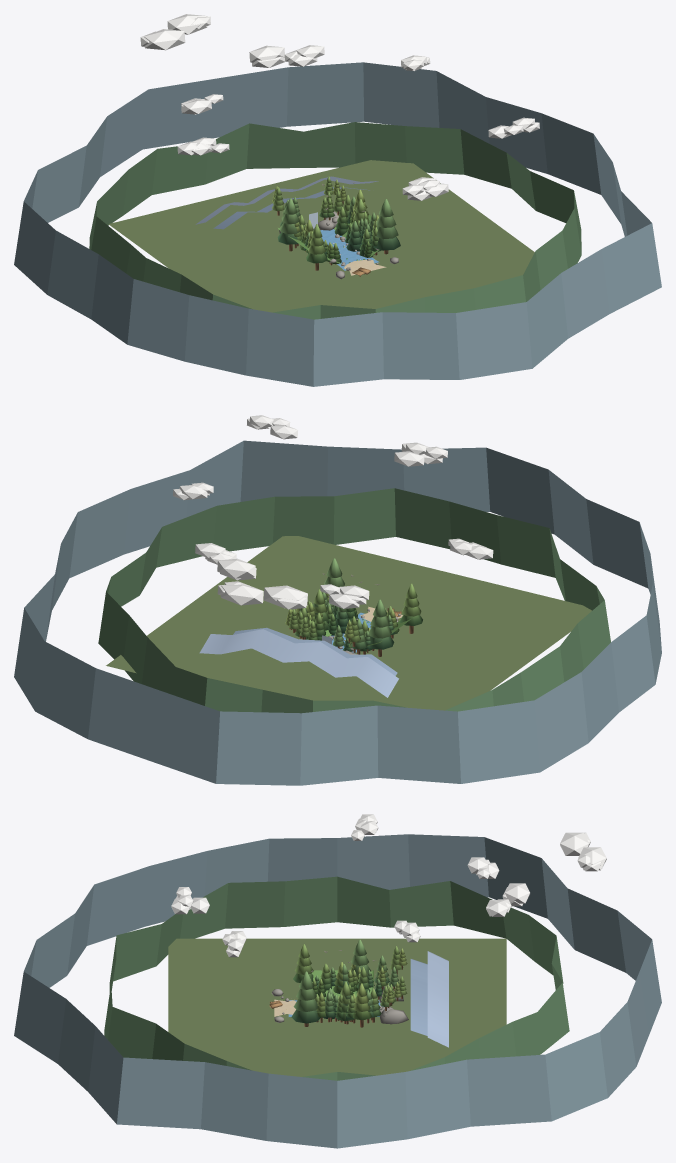
The model's file is openspace_outdoor.glb.
The picture shows the model from 3 angles, top to bottom: view 1: azimuth 30°, elevation 25°; view 2: azimuth 150°, elevation 25°; view 3: azimuth 270°, elevation 25°; orthographic projection. The views are drawn at different scales.
Visible parts, largest first — view 1: HillsFar, Ground_Base, HillsNear, SkyCloud5, SkyCloud1, TreeB.016, SkyCloud4, TreeB.017, SkyCloud3, FarMountains, SkyCloud6, Lake_Water (+2 smaller); view 2: HillsFar, Ground_Base, HillsNear, FarMountains, SkyCloud5, SkyCloud1, SkyCloud4, SkyCloud0, TreeB.017, SkyCloud6, MidMountains, TreeA.022 (+2 smaller); view 3: HillsFar, Ground_Base, HillsNear, FarMountains, MidMountains, SkyCloud5, TreeB.016, SkyCloud1, SkyCloud4, SkyCloud0, SkyCloud3, TreeC.026.
Part boxes in pixels (bbox=[...]): HillsFar: bbox=[14, 62, 661, 386]; Ground_Base: bbox=[108, 160, 534, 312]; HillsNear: bbox=[89, 122, 581, 319]; SkyCloud5: bbox=[140, 14, 210, 50]; SkyCloud1: bbox=[249, 45, 324, 67]; TreeB.016: bbox=[373, 199, 400, 254]; SkyCloud4: bbox=[402, 177, 448, 200]; TreeB.017: bbox=[277, 198, 301, 251]; SkyCloud3: bbox=[177, 137, 229, 155]; FarMountains: bbox=[195, 176, 378, 224]; SkyCloud6: bbox=[488, 117, 539, 138]; Lake_Water: bbox=[320, 229, 379, 270]; HillsFar: bbox=[14, 440, 661, 785]; Ground_Base: bbox=[106, 536, 591, 710]; HillsNear: bbox=[98, 488, 610, 713]; FarMountains: bbox=[199, 629, 398, 697]; SkyCloud5: bbox=[217, 581, 307, 609]; SkyCloud1: bbox=[195, 543, 256, 580]; SkyCloud4: bbox=[394, 442, 447, 466]; SkyCloud0: bbox=[320, 584, 369, 608]; TreeB.017: bbox=[369, 599, 394, 656]; SkyCloud6: bbox=[247, 415, 297, 439]; MidMountains: bbox=[233, 627, 397, 675]; TreeA.022: bbox=[400, 583, 422, 633]; HillsFar: bbox=[14, 834, 661, 1148]; Ground_Base: bbox=[168, 938, 506, 1076]; HillsNear: bbox=[104, 876, 569, 1080]; FarMountains: bbox=[427, 951, 448, 1047]; MidMountains: bbox=[410, 959, 427, 1035]; SkyCloud5: bbox=[560, 832, 606, 871]; TreeB.016: bbox=[291, 971, 320, 1026]; SkyCloud1: bbox=[486, 883, 530, 916]; SkyCloud4: bbox=[171, 887, 209, 914]; SkyCloud0: bbox=[467, 857, 499, 878]; SkyCloud3: bbox=[351, 814, 378, 840]; TreeC.026: bbox=[352, 983, 371, 1027].
Bounding box in the file's own units: 107 × 30.77 × 115.
24 materials, 3 textured.
